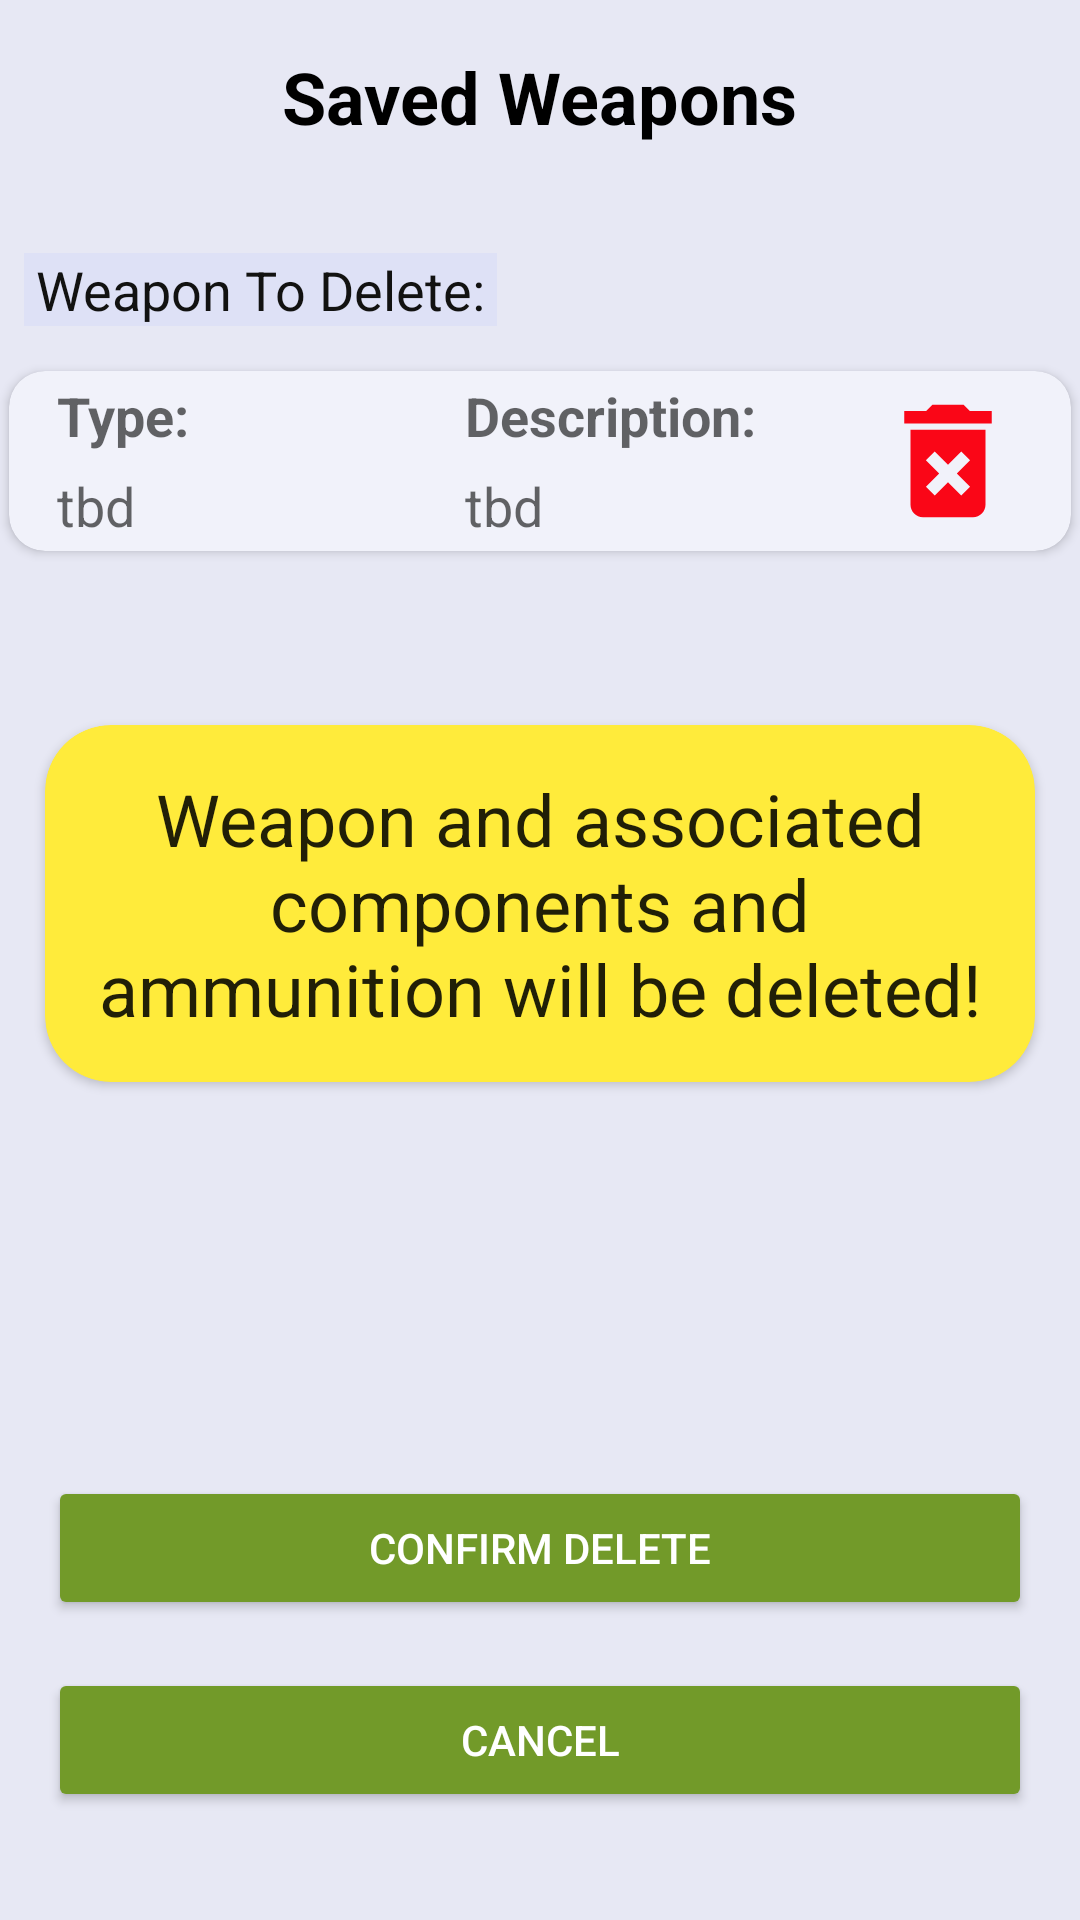

Screen size 1080x1920. Icon name, then its center in pixels as [x,y]:
delete: [948,461]
